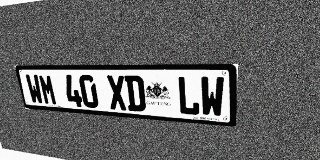0: (78, 75, 99, 108)
4: (63, 75, 83, 107)
D: (124, 75, 146, 112)
L: (177, 76, 200, 116)
M: (38, 74, 58, 105)
W: (200, 76, 224, 118), (25, 74, 44, 104)
X: (106, 75, 128, 111)
